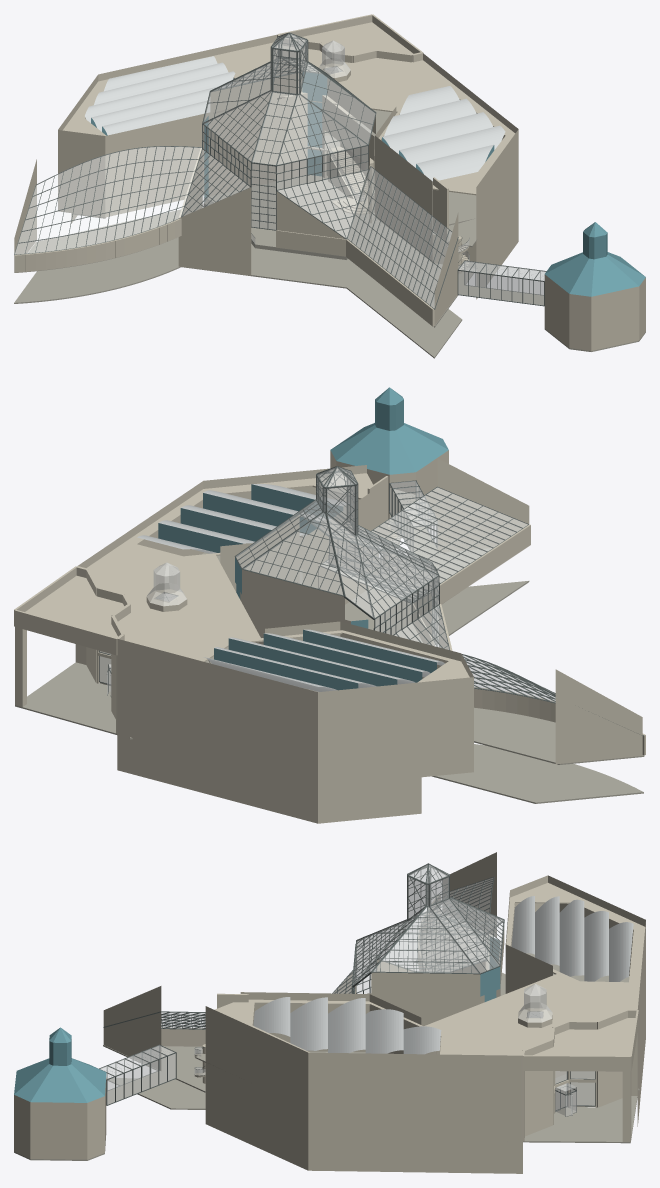
File: MUDAM_R10_DOGU_SPIRAL_v004_preview.glb
3 views of the same model, one above another, from view 1: azimuth 30°, elevation 25°; view 2: azimuth 150°, elevation 25°; view 3: azimuth 270°, elevation 25° (orthographic). The views are drawn at different scales.
Parts seen in each view (by area): view 1: P05_ZONE_LM1_GALLERIES_FOYER, P05_MAIN_ROOF_DECK, P05_GALLERY_HALL_WEST1, P05_MAIN_ATRIUM_BASE_3, P04_PAV_WALL_ENVELOPE, R07_STAIRWELL_STONE_NORTH, P05_FRONT_0, P05_GALLERY_HALL_EAST1, P05_FLOOR_L00_GH, P05_GALLERY_HALL_WEST2, P05_FLOOR_L00_EAST_GARDEN, P04_PAV_ROOF_SLOPE (+21 smaller); view 2: P05_FRONT_9, P05_MAIN_ROOF_DECK, P05_FRONT_10, P05_ZONE_LM1_GALLERIES_FOYER, P05_WEST_END, P05_EAST_END, P05_GALLERY_HALL_WEST3, P04_PAV_ROOF_SLOPE, P07_CANOPY_PAVING_DISPLAY, P05_GALLERY_HALL_EAST1, P05_FLOOR_L00_WEST_CAFE, P07_CANOPY_SLAB_ENVELOPE (+27 smaller); view 3: P05_FRONT_1, P05_MAIN_ROOF_DECK, P05_FRONT_0, P04_PAV_WALL_ENVELOPE, P05_EAST_END, P04_PAV_ROOF_SLOPE, P07_CANOPY_PAVING_DISPLAY, P06_HIGH_EAVE_UPSTAND_5, P07_CANOPY_SLAB_ENVELOPE, P05_WEST_END, P07_ENTRY_RETURN_1, P07_CANOPY_FASCIA_0 (+16 smaller).
Part boxes in pixels (bbox=[...]): P05_ZONE_LM1_GALLERIES_FOYER: bbox=[14, 237, 462, 358]; P05_MAIN_ROOF_DECK: bbox=[62, 42, 517, 195]; P05_GALLERY_HALL_WEST1: bbox=[105, 112, 212, 217]; P05_MAIN_ATRIUM_BASE_3: bbox=[208, 93, 307, 196]; P04_PAV_WALL_ENVELOPE: bbox=[544, 274, 645, 350]; R07_STAIRWELL_STONE_NORTH: bbox=[178, 187, 251, 275]; P05_FRONT_0: bbox=[476, 129, 518, 299]; P05_GALLERY_HALL_EAST1: bbox=[375, 136, 432, 262]; P05_FLOOR_L00_GH: bbox=[204, 176, 374, 257]; P05_GALLERY_HALL_WEST2: bbox=[58, 130, 105, 217]; P05_FLOOR_L00_EAST_GARDEN: bbox=[348, 217, 476, 327]; P04_PAV_ROOF_SLOPE: bbox=[545, 252, 645, 296]; P05_FRONT_9: bbox=[117, 639, 317, 823]; P05_MAIN_ROOF_DECK: bbox=[86, 473, 473, 701]; P05_FRONT_10: bbox=[318, 682, 421, 823]; P05_ZONE_LM1_GALLERIES_FOYER: bbox=[432, 581, 643, 803]; P05_WEST_END: bbox=[555, 669, 642, 764]; P05_EAST_END: bbox=[437, 458, 529, 552]; P05_GALLERY_HALL_WEST3: bbox=[421, 677, 473, 777]; P04_PAV_ROOF_SLOPE: bbox=[330, 423, 448, 474]; P07_CANOPY_PAVING_DISPLAY: bbox=[15, 662, 117, 734]; P05_GALLERY_HALL_EAST1: bbox=[302, 487, 378, 604]; P05_FLOOR_L00_WEST_CAFE: bbox=[474, 707, 644, 764]; P07_CANOPY_SLAB_ENVELOPE: bbox=[25, 575, 124, 637]; P05_FRONT_1: bbox=[308, 1052, 522, 1173]; P05_MAIN_ROOF_DECK: bbox=[207, 883, 645, 1064]; P05_FRONT_0: bbox=[205, 1006, 308, 1170]; P04_PAV_WALL_ENVELOPE: bbox=[14, 1077, 106, 1159]; P05_EAST_END: bbox=[103, 986, 161, 1070]; P04_PAV_ROOF_SLOPE: bbox=[14, 1058, 106, 1102]; P07_CANOPY_PAVING_DISPLAY: bbox=[523, 1096, 637, 1143]; P06_HIGH_EAVE_UPSTAND_5: bbox=[371, 972, 480, 996]; P07_CANOPY_SLAB_ENVELOPE: bbox=[533, 1018, 635, 1055]; P05_WEST_END: bbox=[442, 852, 496, 937]; P07_ENTRY_RETURN_1: bbox=[522, 1039, 553, 1136]; P07_CANOPY_FASCIA_0: bbox=[523, 1055, 630, 1071].
Bounding box in the file's own units: 80.45 × 35.94 × 93.28.
